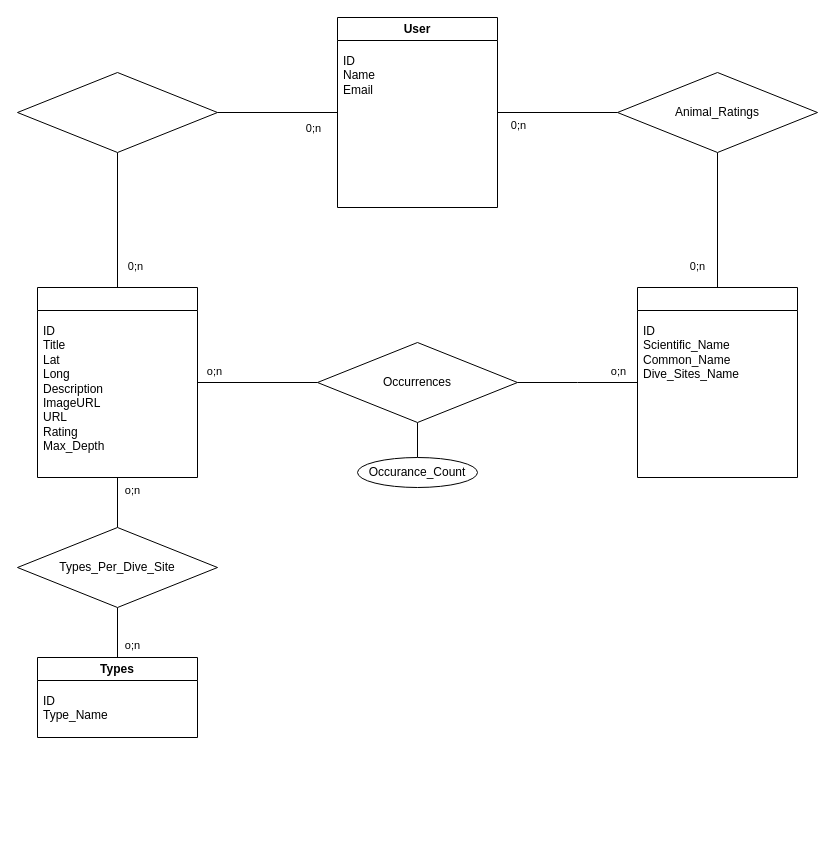
Image size: 835x868. Some labels were removed from this diagram. Here are the shapes that lost their labels. From the top down, the box of each, then its label:
(16, 72, 218, 152): Dive_Site_Ratings
(36, 286, 198, 478): Dive_Sites
(636, 286, 798, 478): Animals
